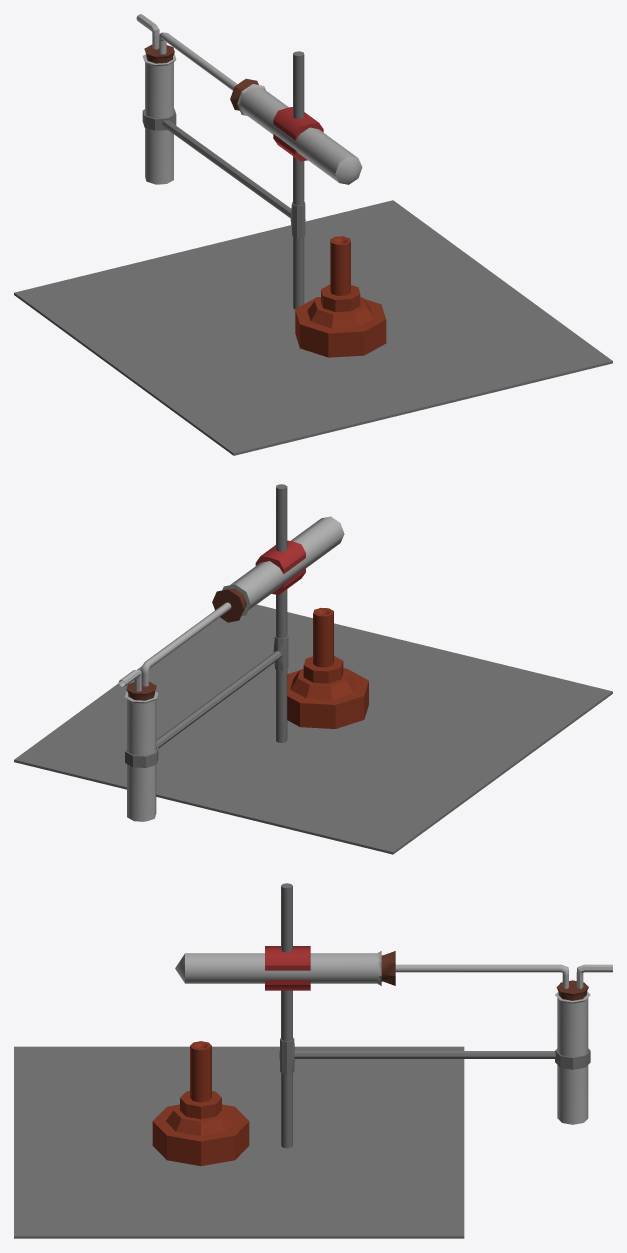
File: coal_exp.fbx
3 views of the same model, one above another, from view 1: azimuth 30°, elevation 25°; view 2: azimuth 150°, elevation 25°; view 3: azimuth 270°, elevation 25° (orthographic). The views are drawn at different scales.
Parts seen in each view (by area): view 1: base, burner_1, test_tube_1, test_tube_3, holder_2, holder_1, pipe_1, rubber_holder_4, holder_3; view 2: base, burner_1, test_tube_3, test_tube_1, holder_2, holder_1, pipe_1, rubber_holder_4, holder_3, rubber_1; view 3: base, burner_1, test_tube_1, test_tube_3, holder_2, pipe_1, holder_1, rubber_holder_4, holder_3, rubber_holder_3, holder_4.
Boxes of the visible parts, left/top/right/bottom form: base: left=14, top=200, right=612, bottom=455; burner_1: left=295, top=236, right=386, bottom=357; test_tube_1: left=237, top=84, right=362, bottom=184; test_tube_3: left=142, top=54, right=176, bottom=184; holder_2: left=162, top=120, right=305, bottom=237; holder_1: left=293, top=156, right=304, bottom=309; pipe_1: left=159, top=32, right=237, bottom=90; rubber_holder_4: left=273, top=107, right=323, bottom=140; holder_3: left=293, top=51, right=304, bottom=118; base: left=14, top=604, right=612, bottom=854; burner_1: left=287, top=608, right=368, bottom=728; test_tube_3: left=124, top=691, right=158, bottom=821; test_tube_1: left=222, top=516, right=344, bottom=616; holder_2: left=156, top=634, right=288, bottom=748; holder_1: left=276, top=589, right=287, bottom=742; pipe_1: left=141, top=602, right=231, bottom=686; rubber_holder_4: left=255, top=540, right=305, bottom=573; holder_3: left=276, top=484, right=287, bottom=551; rubber_1: left=212, top=588, right=246, bottom=622; base: left=14, top=1046, right=464, bottom=1238; burner_1: left=152, top=1041, right=249, bottom=1166; test_tube_1: left=175, top=951, right=381, bottom=985; test_tube_3: left=555, top=991, right=590, bottom=1124; holder_2: left=279, top=1038, right=555, bottom=1074; pipe_1: left=395, top=964, right=568, bottom=988; holder_1: left=281, top=990, right=292, bottom=1148; rubber_holder_4: left=265, top=946, right=310, bottom=970; holder_3: left=281, top=883, right=292, bottom=952; rubber_holder_3: left=265, top=980, right=310, bottom=990; holder_4: left=555, top=1048, right=590, bottom=1069.
Size of the model in its own units: 61.48 by 39.76 by 82.11.
